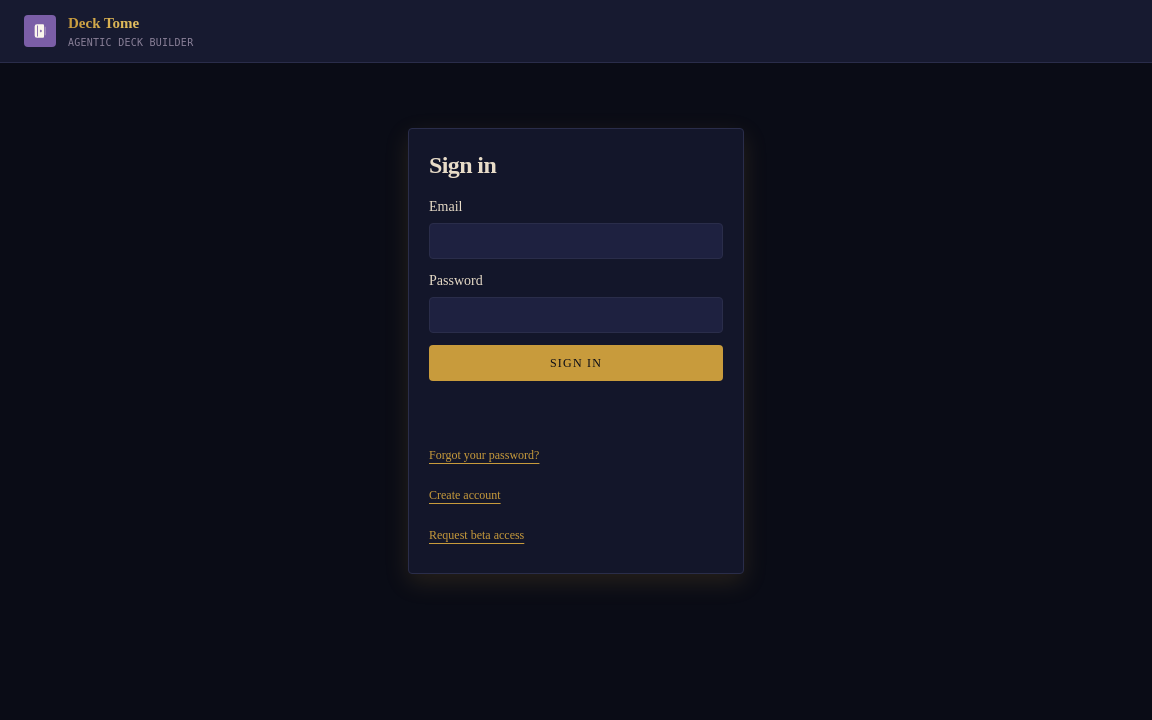
it: SignInPage › sends a reset link for the typed email, and names no account
Click the button "Forgot your password?" at (484, 454), box x1=429 y1=436 x2=539 y2=472
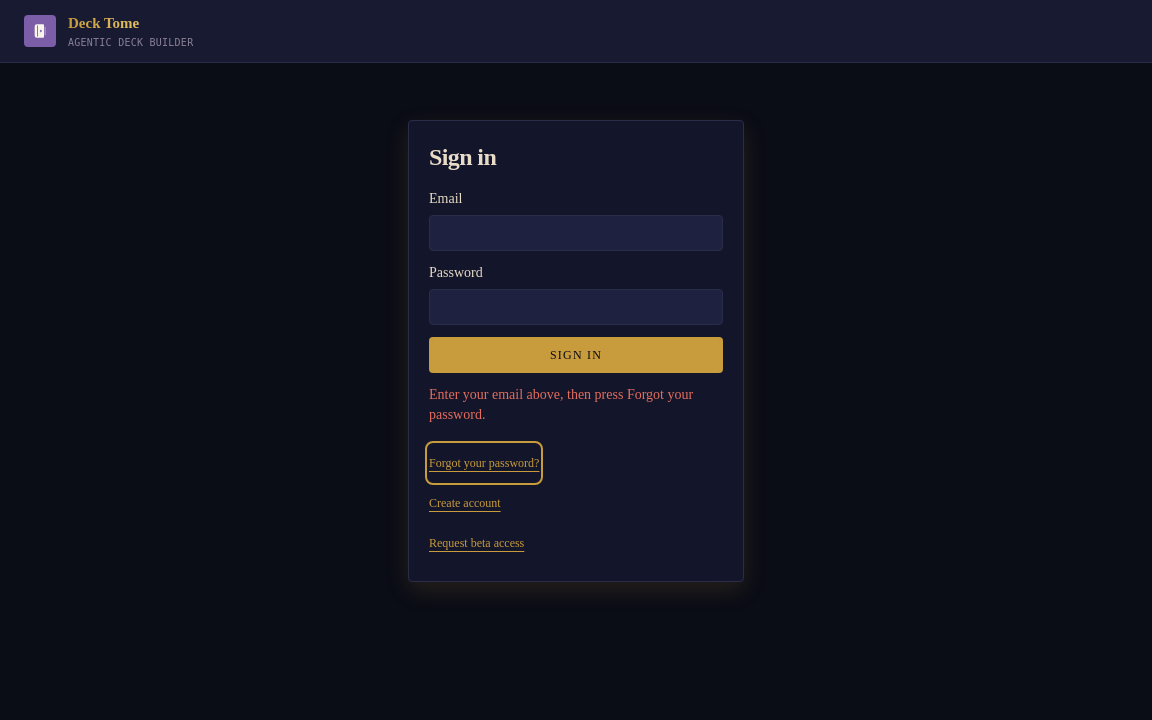
Now the message shows "Enter your email above", box x1=429 y1=386 x2=693 y2=422
Type "ann@example.com" into the field labelled "Email" at (576, 232), box x1=429 y1=214 x2=723 y2=250
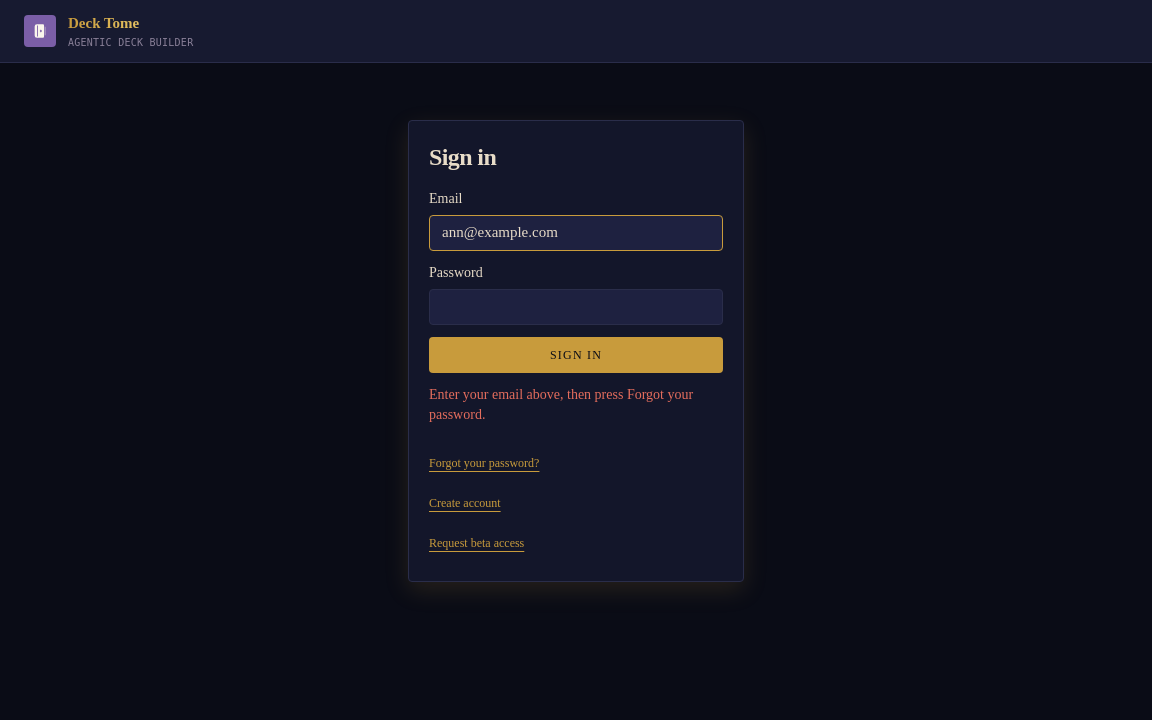
Click the button "Forgot your password?" at (484, 462), box x1=429 y1=444 x2=539 y2=480
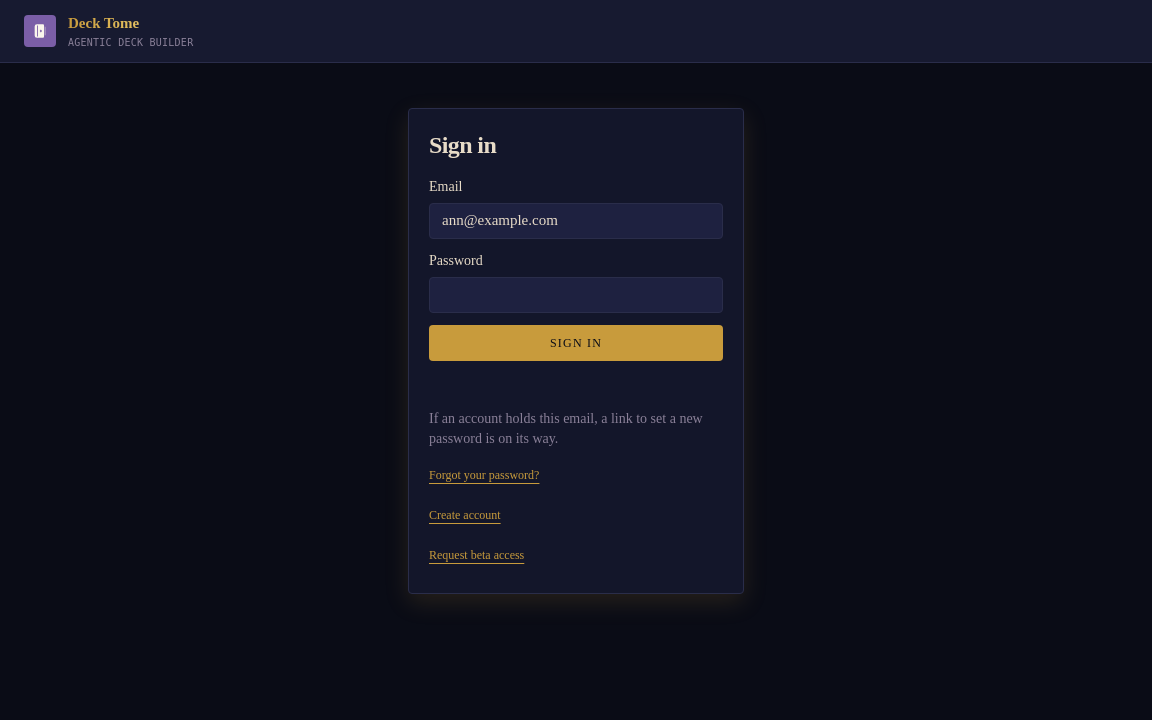
Now the message "If an account holds this email, a link to set a new password is on its way." is shown, box x1=429 y1=408 x2=723 y2=448
